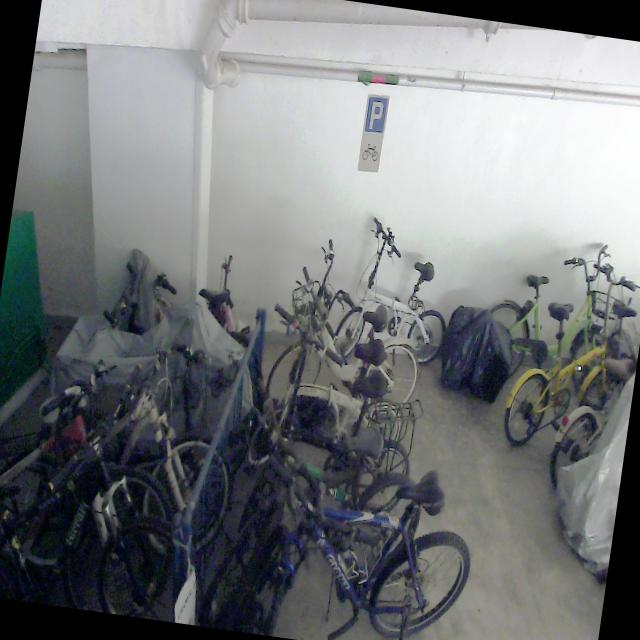bike: (0, 319, 248, 572), (197, 438, 481, 640), (0, 343, 199, 615), (234, 387, 437, 577), (266, 231, 436, 416), (246, 302, 416, 486), (500, 250, 640, 459), (476, 226, 632, 412), (332, 213, 461, 373)
